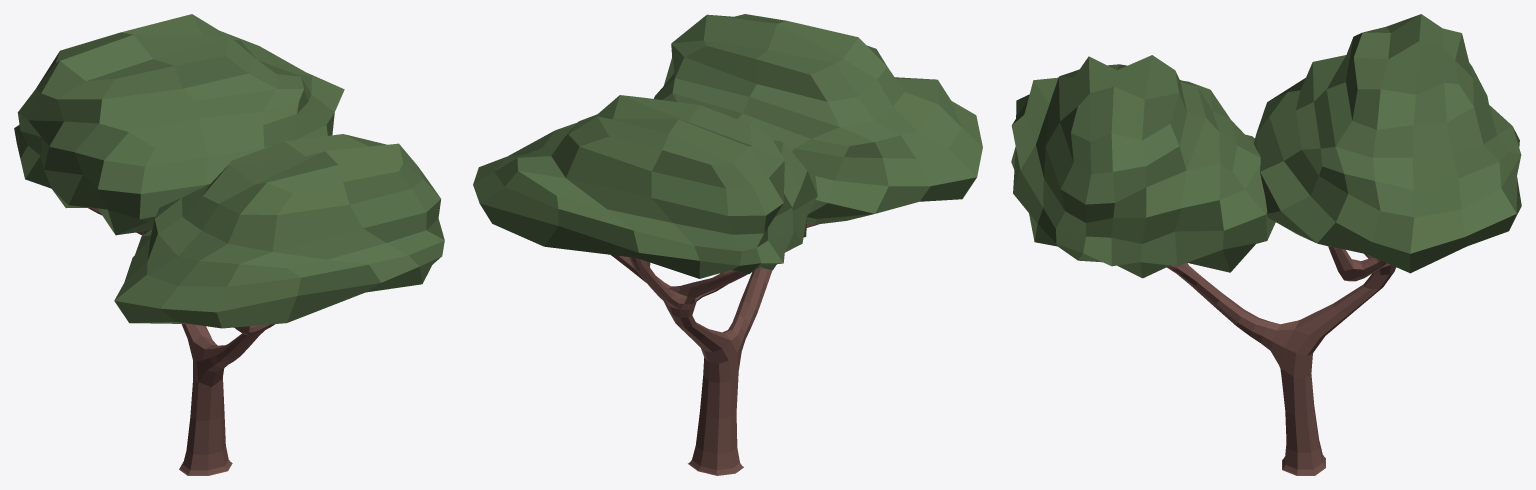
File: doublestrom.fbx
3 renders of one model, left to right at view 1: azimuth 30°, elevation 25°; view 2: azimuth 150°, elevation 25°; view 3: azimuth 270°, elevation 25°, orthographic. The views are drawn at different scales.
Visible parts, largest first — view 1: CommonTree_1; view 2: CommonTree_1; view 3: CommonTree_1.
Part boxes in pixels (x1,y1,x2,y2): CommonTree_1: (14, 14, 444, 475); CommonTree_1: (473, 14, 982, 475); CommonTree_1: (1011, 14, 1521, 475).
Size of the model in its own units: 386 by 396 by 443.
